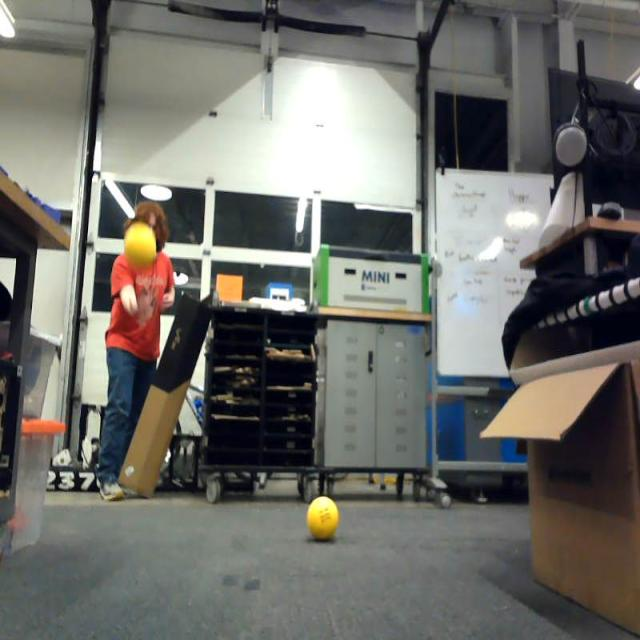Fuel: (307, 496, 338, 540), (126, 226, 156, 266)
